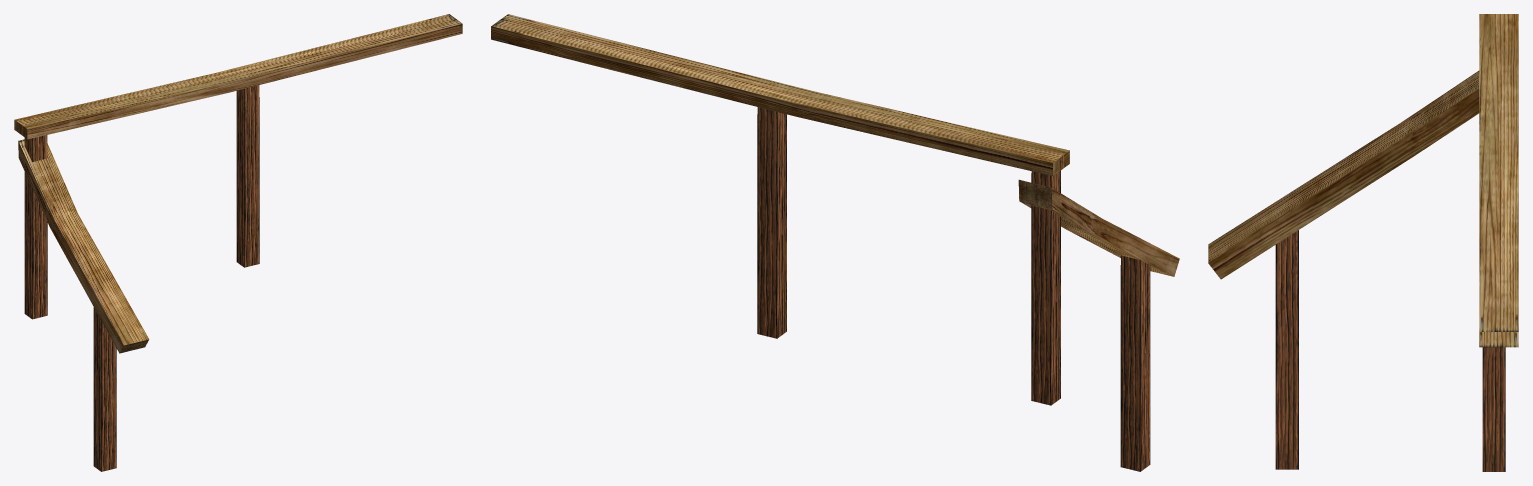
The model's file is LAKETOWN_GENHOUSE1_PS_GH1_HANDRAIL575__GX.fbx.
3 renders of one model, left to right at view 1: azimuth 30°, elevation 25°; view 2: azimuth 150°, elevation 25°; view 3: azimuth 270°, elevation 25°, orthographic. The views are drawn at different scales.
Visible parts, largest first — view 1: LAKETOWN_GENHOUSE1_PS_GH1_HANDRAIL575__GX; view 2: LAKETOWN_GENHOUSE1_PS_GH1_HANDRAIL575__GX; view 3: LAKETOWN_GENHOUSE1_PS_GH1_HANDRAIL575__GX.
Part boxes in pixels (<box>): LAKETOWN_GENHOUSE1_PS_GH1_HANDRAIL575__GX: <box>14,14,462,471</box>; LAKETOWN_GENHOUSE1_PS_GH1_HANDRAIL575__GX: <box>491,14,1179,471</box>; LAKETOWN_GENHOUSE1_PS_GH1_HANDRAIL575__GX: <box>1208,14,1518,471</box>.
Bounding box in the file's own units: 24119 × 15596 × 9974.
Materials: 2 (2 with a texture image).
